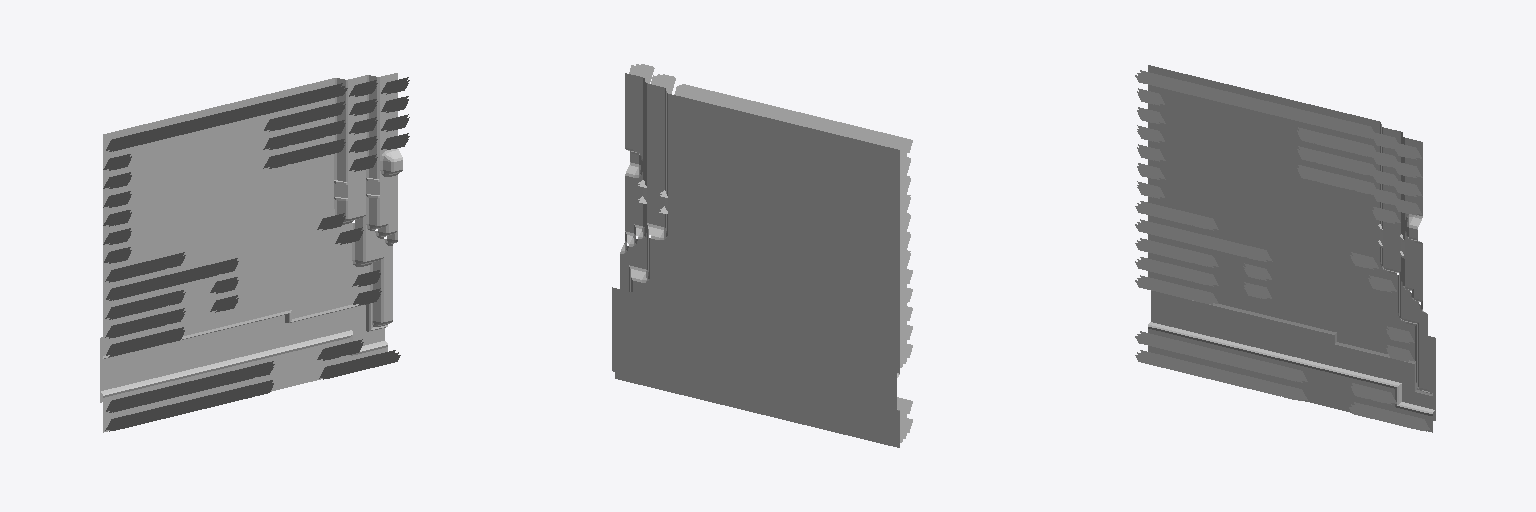
File: Plat_full_04_12.obj
3 renders of one model, left to right at view 1: azimuth 30°, elevation 25°; view 2: azimuth 150°, elevation 25°; view 3: azimuth 330°, elevation 25°, orthographic.
Parts seen in each view (by area): view 1: map; view 2: map; view 3: map.
Part boxes in pixels (x1,y1,x2,y2): map: (100, 73, 409, 432); map: (612, 64, 912, 447); map: (1135, 65, 1435, 432).
Size of the model in its own units: 32.5 by 32.12 by 5.14.